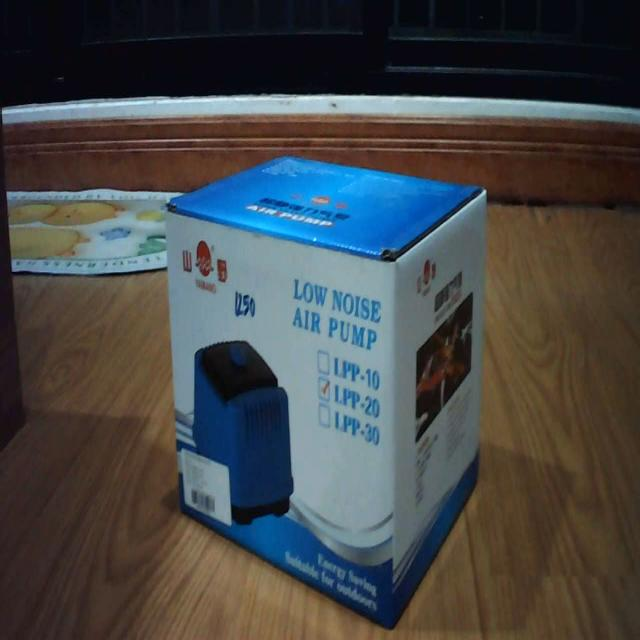YAMANO_LPP_20: (155, 137, 502, 640)
